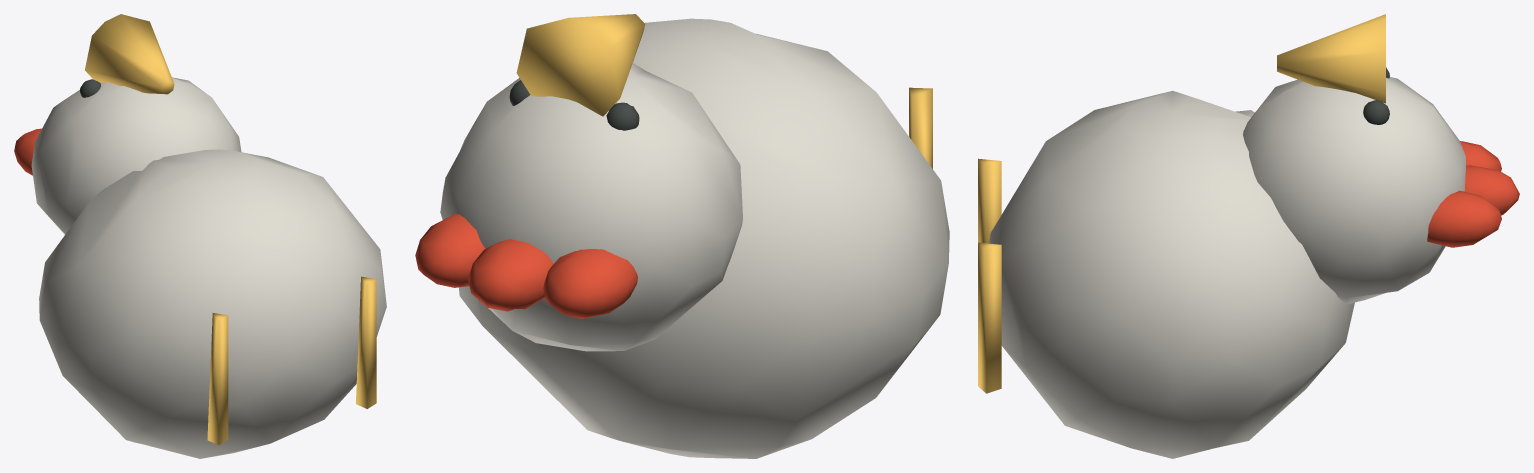
The model's file is chicken_character.glb.
3 renders of one model, left to right at view 1: azimuth 30°, elevation 25°; view 2: azimuth 150°, elevation 25°; view 3: azimuth 270°, elevation 25°, orthographic. The views are drawn at different scales.
Visible parts, largest first — view 1: Body, Head, Beak, Leg, Leg.001, Comb; view 2: Body, Head, Beak, Comb, Comb.001, Comb.002, Leg, Eye; view 3: Body, Head, Beak, Leg.001, Comb.002, Leg, Comb.001, Comb.
Boxes of the visible parts, box(x1,y1,x2,y2) form: Body: box(39, 149, 386, 458); Head: box(31, 77, 241, 234); Beak: box(85, 14, 174, 94); Leg: box(207, 313, 228, 445); Leg.001: box(356, 276, 376, 408); Comb: box(14, 128, 41, 175); Body: box(459, 18, 949, 458); Head: box(440, 63, 742, 351); Beak: box(516, 14, 645, 116); Comb: box(543, 249, 637, 318); Comb.001: box(468, 239, 553, 311); Comb.002: box(415, 213, 485, 287); Leg: box(909, 87, 932, 168); Eye: box(606, 102, 639, 130); Body: box(989, 90, 1354, 458); Head: box(1243, 77, 1465, 304); Beak: box(1277, 14, 1385, 103); Leg.001: box(978, 242, 1001, 393); Comb.002: box(1427, 190, 1501, 247); Leg: box(978, 158, 1001, 243); Comb.001: box(1464, 165, 1519, 215); Comb: box(1460, 141, 1501, 171).
Bounding box in the file's own units: 0.84 × 0.93 × 1.09.
